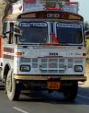truck: (1, 1, 87, 106)
